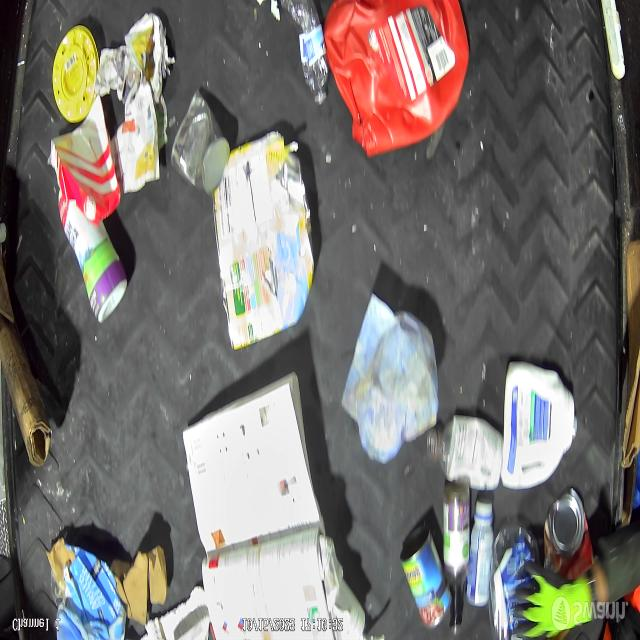can: (171, 96, 229, 193), (401, 528, 454, 630), (541, 488, 595, 586)
milk_jug: (502, 367, 576, 496)
non_white_jug: (328, 0, 463, 155)
plastic_bottle: (294, 1, 332, 110)
